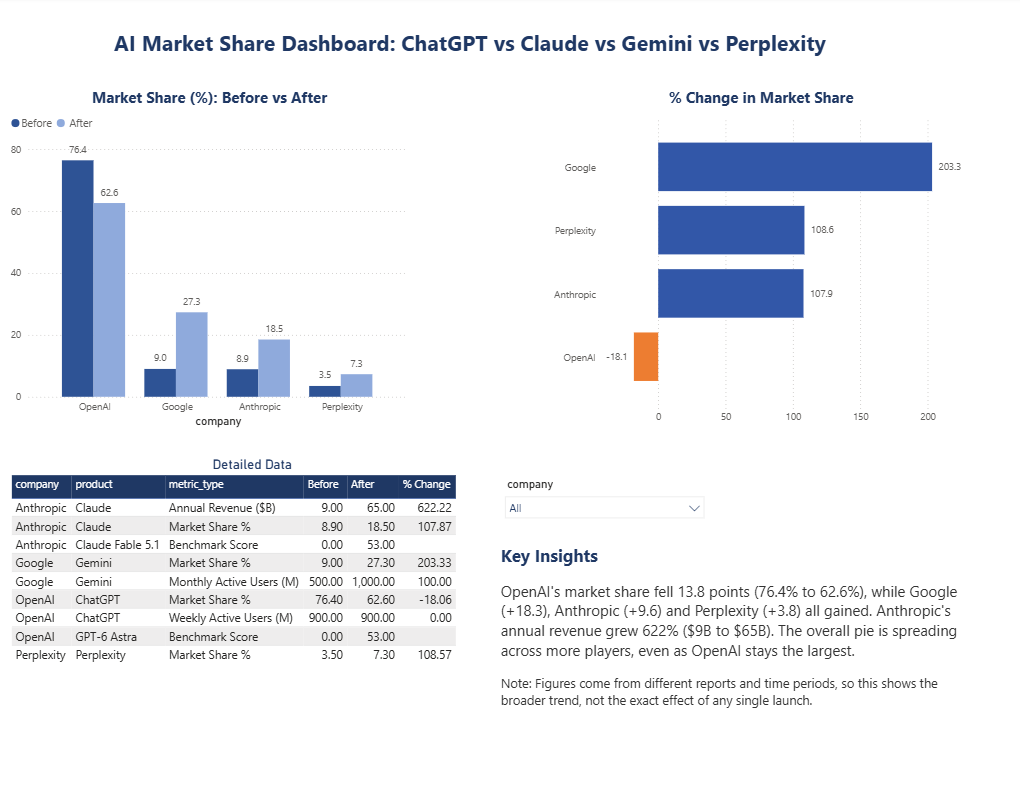

The page's visual inventory and layout, read from the dashboard file:
{"tool":"powerbi","page":{"name":"Page 1","canvas":[1280,1000],"ordinal":0},"visuals":[{"type":"textbox","box":[9.6,0,1163.6,96.1],"z":0},{"type":"clusteredColumnChart","title":"Market Share (%): Before vs After","fields":{"Category":["ai_market_processed.company"],"Y":["Sum(ai_market_processed.value_before)","Sum(ai_market_processed.value_after)"]},"box":[10.2,113.8,507.8,431.4],"z":1000},{"type":"clusteredBarChart","title":"% Change in Market Share","fields":{"Category":["ai_market_processed.company"],"Y":["Sum(ai_market_processed.percent_change)"]},"box":[686.1,113.8,540.1,431.4],"z":2000},{"type":"tableEx","title":"Detailed Data","fields":{"Values":["ai_market_processed.company","ai_market_processed.product","ai_market_processed.metric_type","ai_market_processed.value_before","ai_market_processed.value_after","ai_market_processed.percent_change"]},"box":[10.2,575.8,614.8,292.1],"z":3000},{"type":"slicer","fields":{"Values":["ai_market_processed.company"]},"box":[625,597.8,270,164.7],"z":4000},{"type":"textbox","box":[625,681,601.2,237.8],"z":5000}]}

Visuals, with their boxes in screenshot pixels (x1, y1, x2, y2), scaled from the page's 1280x1000 canvas onto the 1020x794 screenshot:
textbox: {"left": 8, "top": 0, "right": 935, "bottom": 76}
"Market Share (%): Before vs After" clusteredColumnChart: {"left": 8, "top": 90, "right": 413, "bottom": 433}
"% Change in Market Share" clusteredBarChart: {"left": 547, "top": 90, "right": 977, "bottom": 433}
"Detailed Data" tableEx: {"left": 8, "top": 457, "right": 498, "bottom": 689}
slicer - ai_market_processed.company: {"left": 498, "top": 475, "right": 713, "bottom": 605}
textbox: {"left": 498, "top": 541, "right": 977, "bottom": 730}
